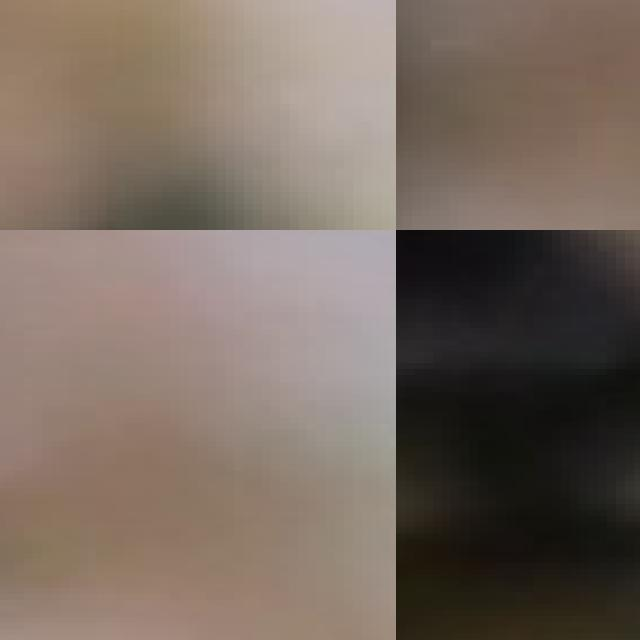fish: (0, 0, 396, 230)
